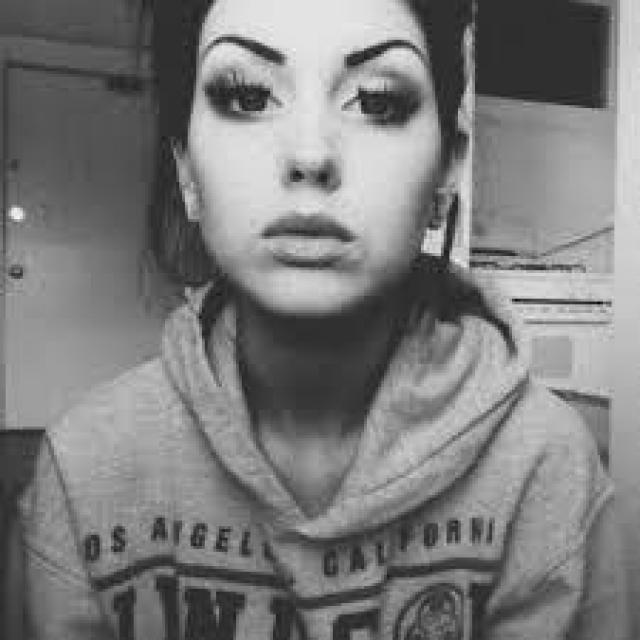person: (79, 9, 592, 603)
